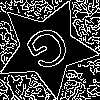G: (22, 23, 79, 82)
